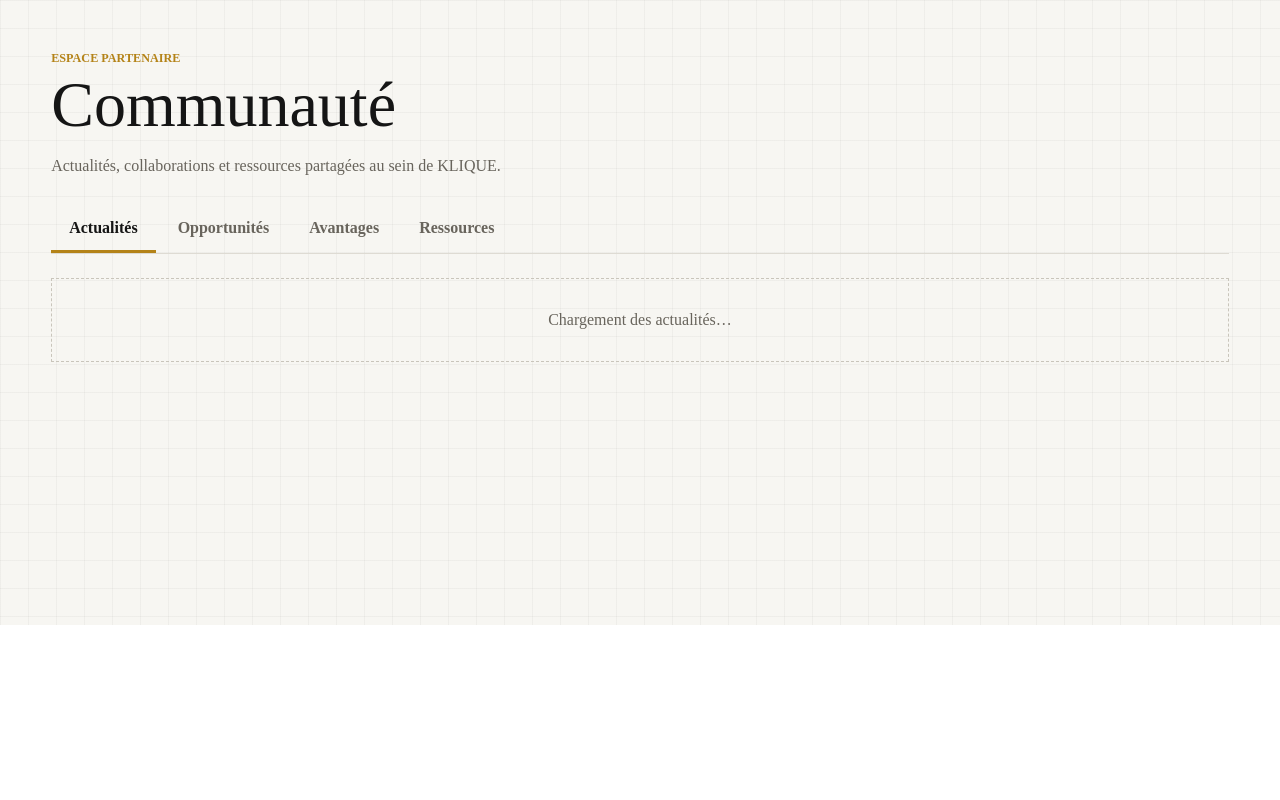
Test: PartnerCommunityPage › shows a loading state for every tab while its GET is pending
Click the tab "Opportunités" at point(223, 230), box [160,206,287,252]
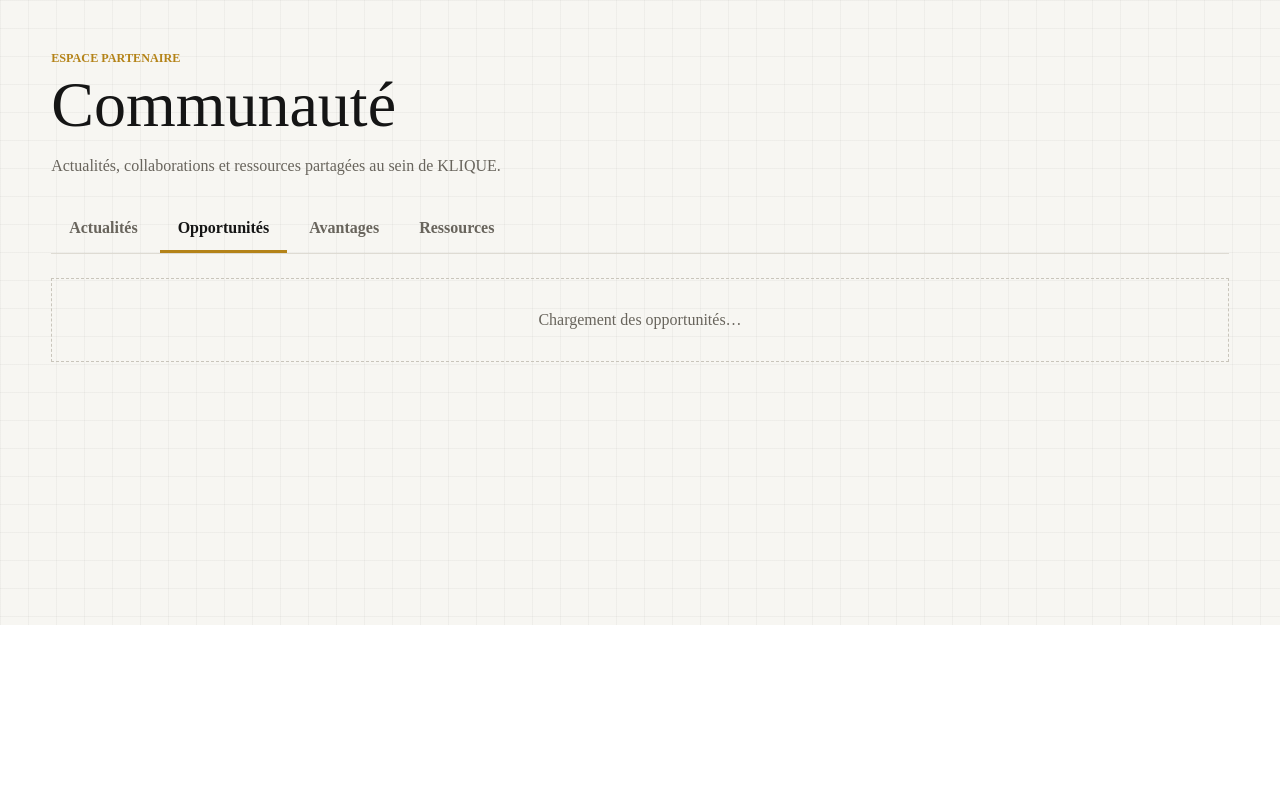
Expected: the text "Chargement des opportunités…" is shown, [51,278,1229,362]
Click the tab "Avantages" at point(344, 230), box [291,206,397,252]
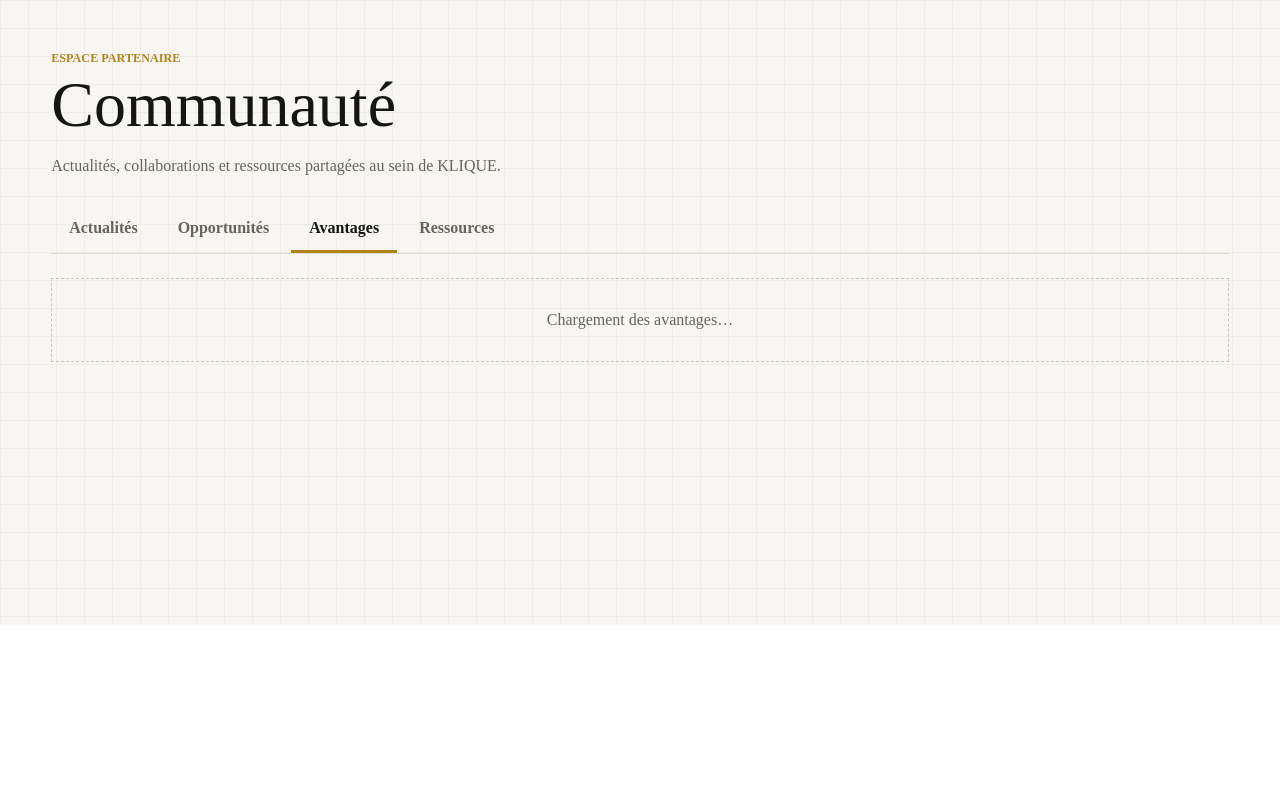
Expected: the text "Chargement des avantages…" is shown, [51,278,1229,362]
Click the tab "Ressources" at point(457, 230), box [401,206,512,252]
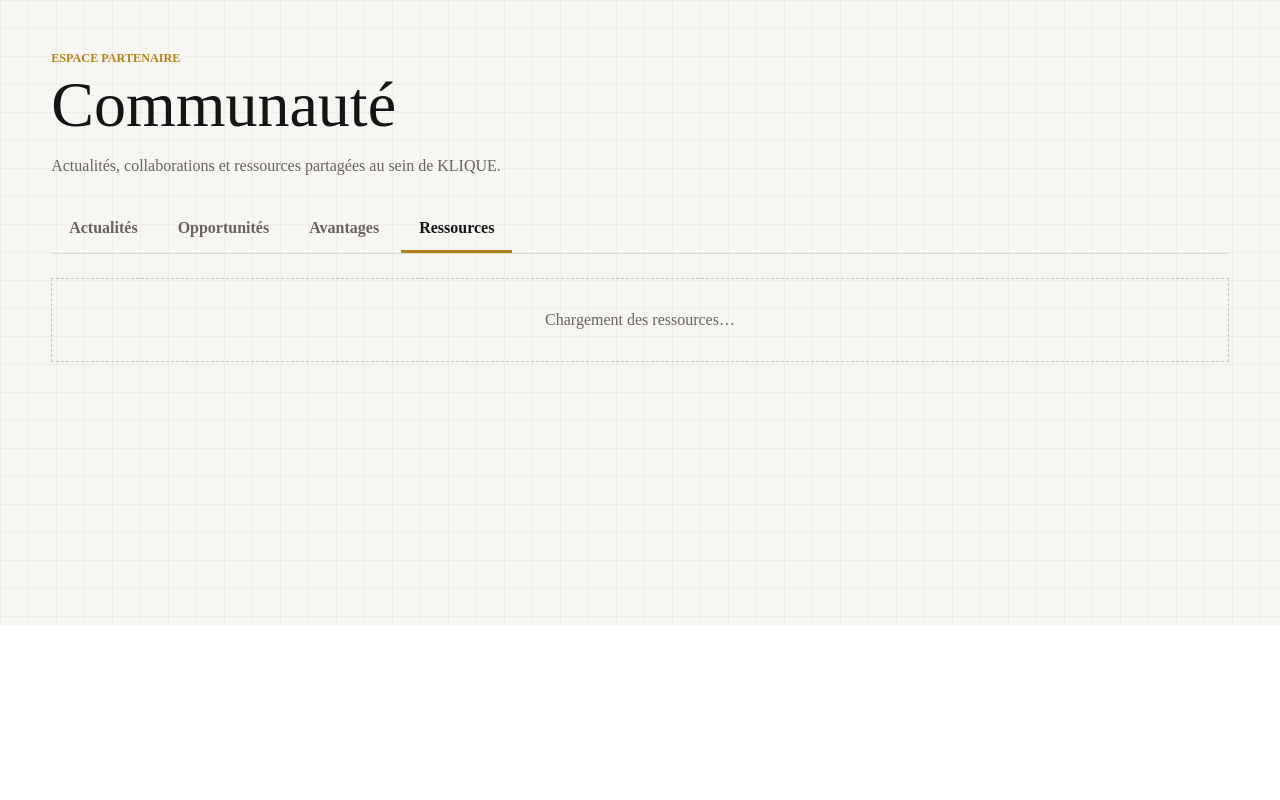
Expected: the text "Chargement des ressources…" is shown, [51,278,1229,362]
